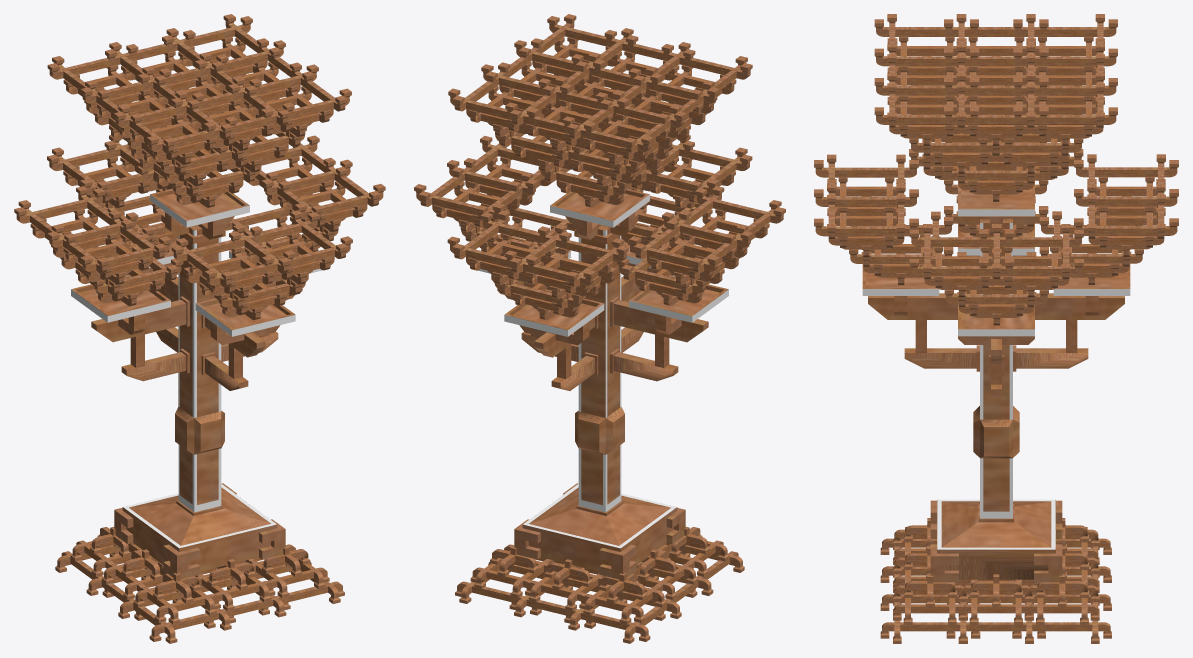
3 renders of one model, left to right at view 1: azimuth 30°, elevation 25°; view 2: azimuth 150°, elevation 25°; view 3: azimuth 270°, elevation 25°, orthographic. The views are drawn at different scales.
Parts seen in each view (by area): view 1: R5L2; view 2: R5L2; view 3: R5L2.
Part boxes in pixels (x1=…): R5L2: x1=14, y1=14, x2=385, y2=643; R5L2: x1=414, y1=14, x2=785, y2=643; R5L2: x1=814, y1=14, x2=1178, y2=643.
Size of the model in its own units: 47 by 75.28 by 47.
2 materials, 1 textured.
